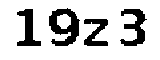1: (12, 4, 44, 51)
3: (118, 6, 149, 51)
9: (43, 3, 81, 51)
z: (82, 15, 111, 52)
